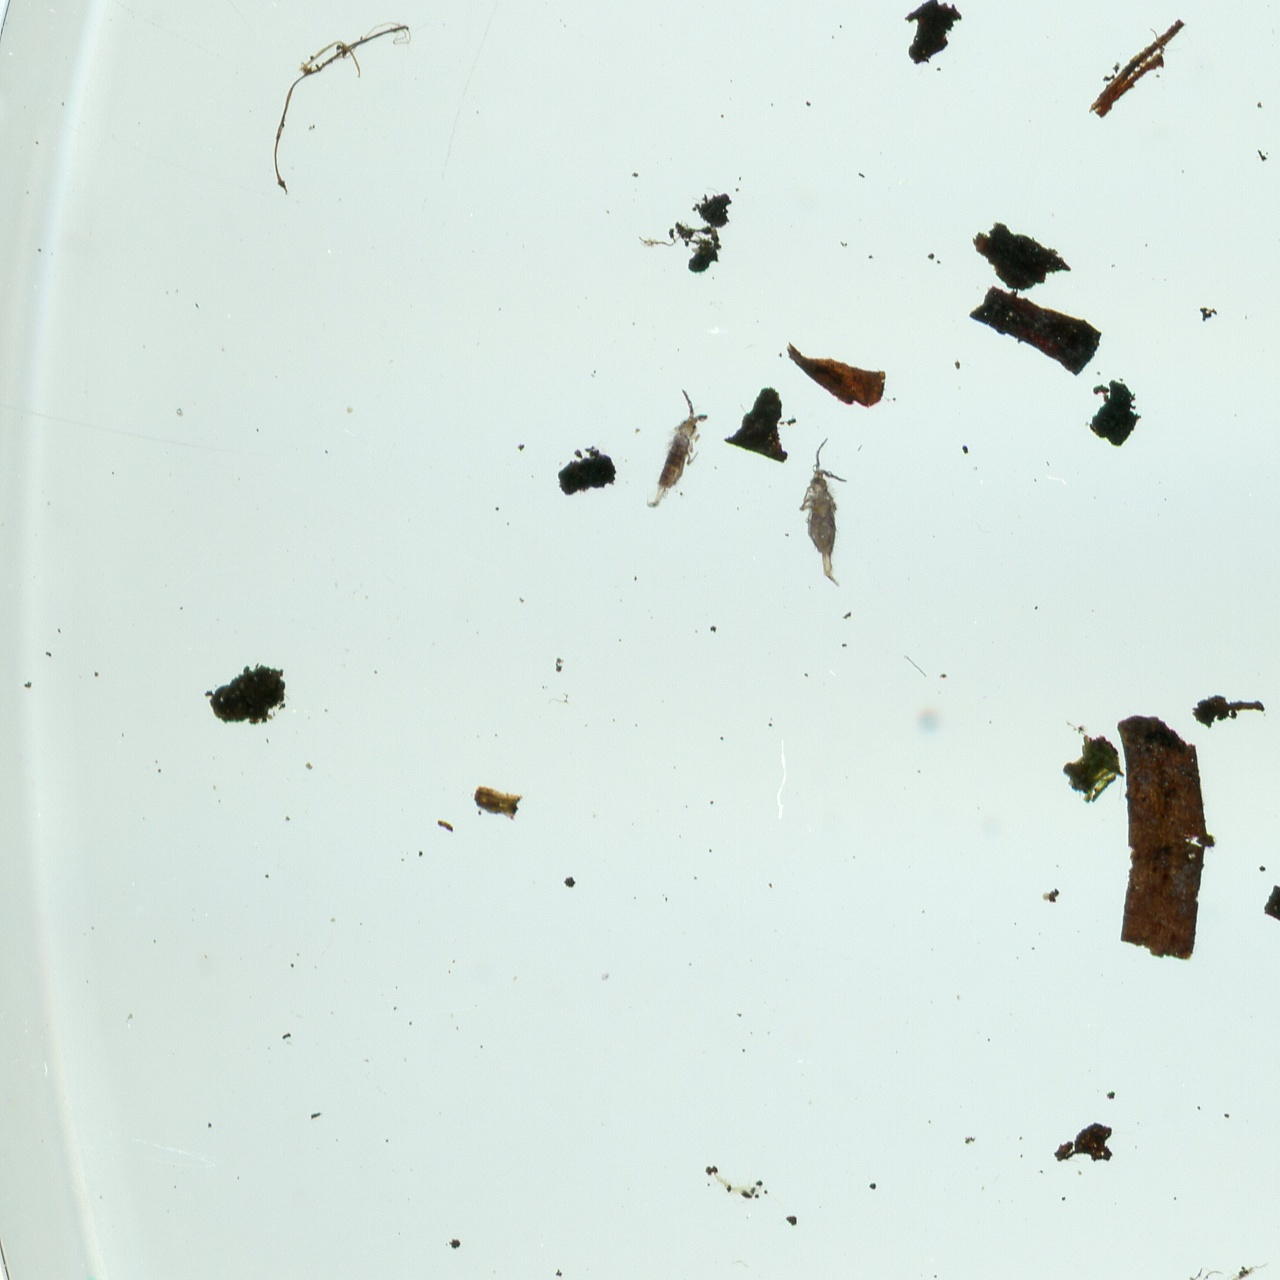arthropod: (798, 434, 850, 601), (646, 387, 710, 510)
